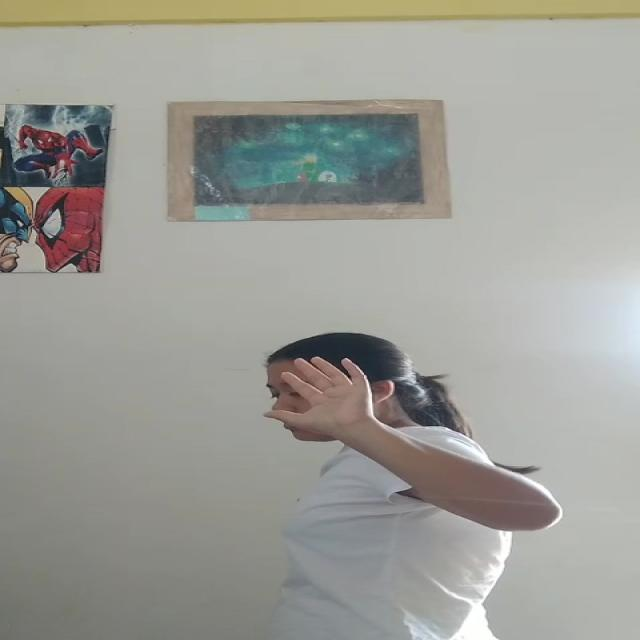7_mano_rostro: (274, 357, 382, 472)
